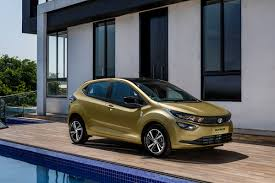car: (68, 76, 233, 159)
